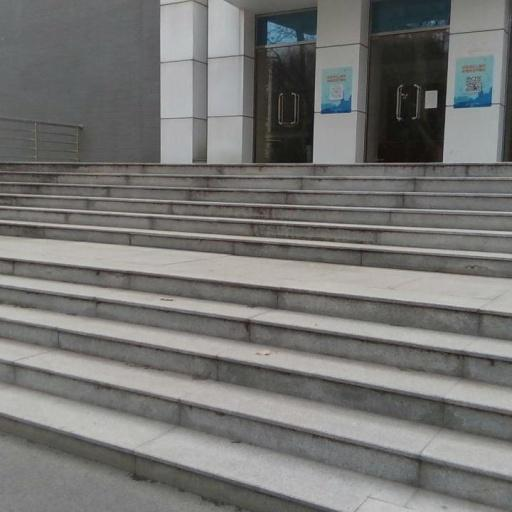stairs: (0, 165, 511, 511)
